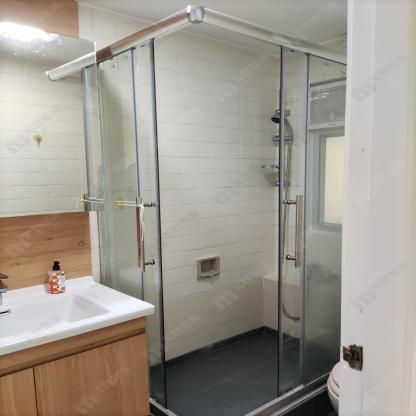Toilet Sink: (0, 275, 154, 356)
Water Cubicle: (97, 2, 351, 416)
